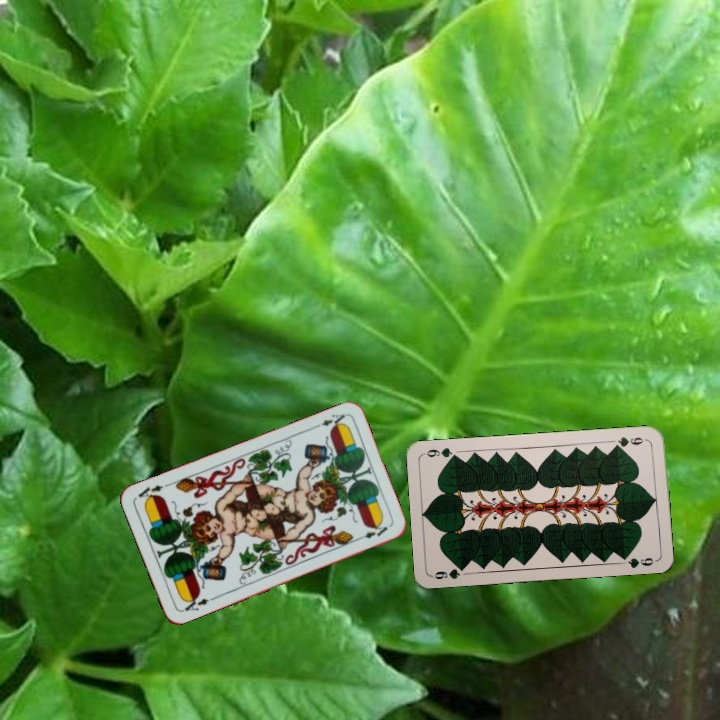EA: (309, 410, 348, 432), (178, 591, 211, 614)
G9: (429, 562, 469, 582), (610, 433, 649, 450)
